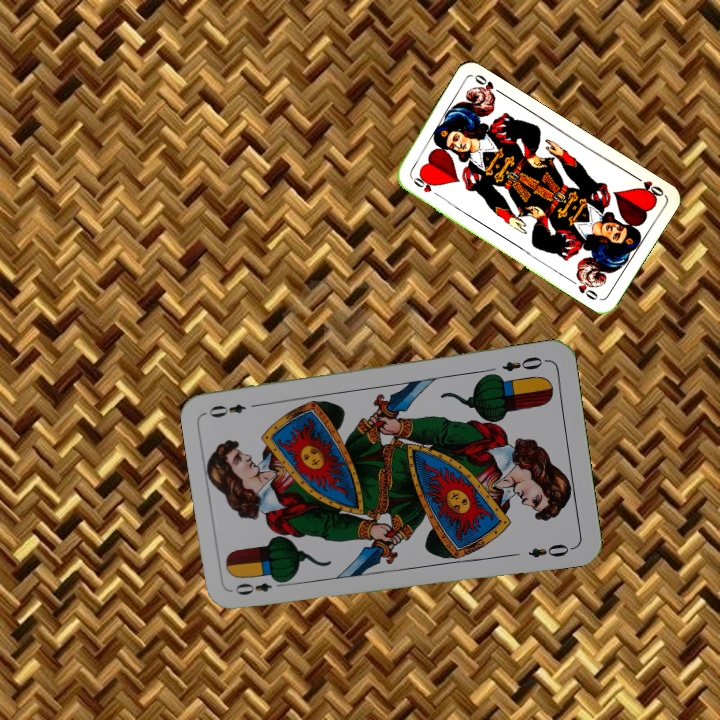EO: (231, 574, 289, 598), (498, 352, 545, 374)
HO: (630, 172, 666, 202), (407, 173, 443, 200)
